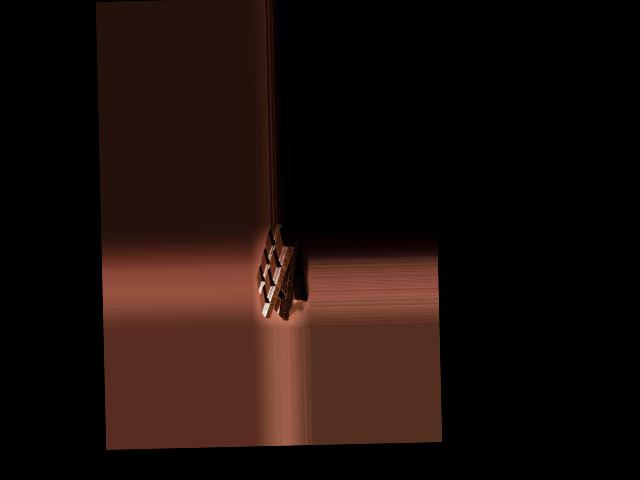chocolate: (256, 226, 301, 320)
